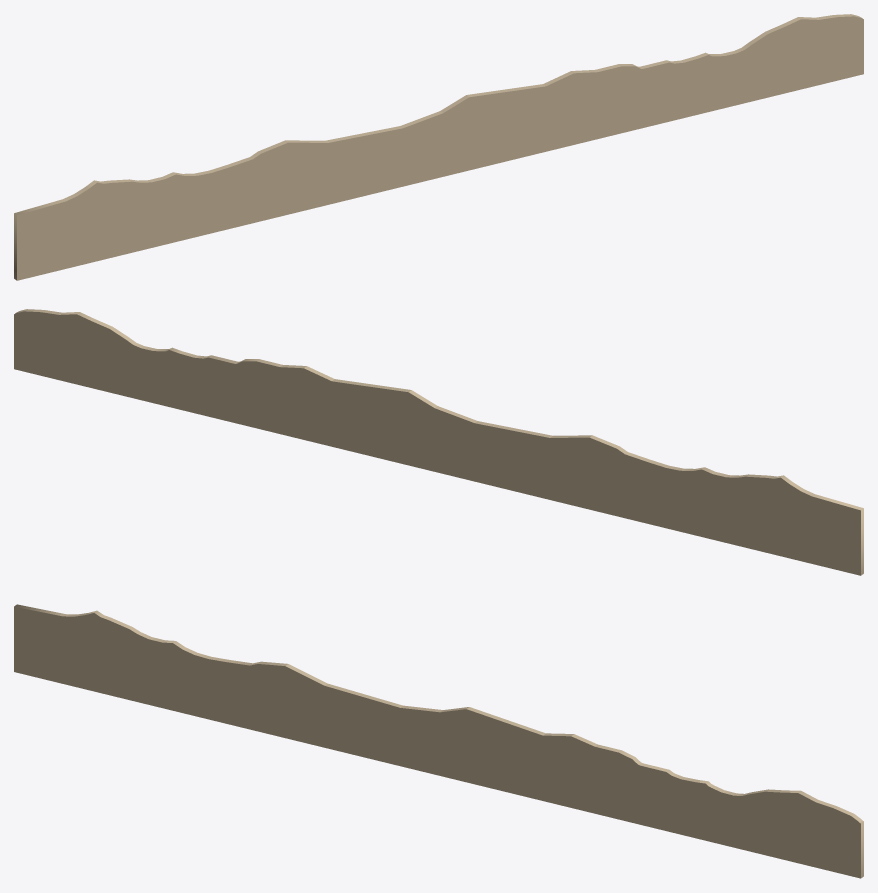
3 renders of one model, top to bottom at view 1: azimuth 30°, elevation 25°; view 2: azimuth 150°, elevation 25°; view 3: azimuth 330°, elevation 25°, orthographic.
Visible parts, largest first — view 1: layer5; view 2: layer5; view 3: layer5.
Boxes of the visible parts, box(x1,y1,x2,y2) form: layer5: box(14, 14, 863, 280); layer5: box(14, 309, 863, 575); layer5: box(14, 604, 863, 878).
Size of the model in its own units: 7.96 by 0.7074 by 0.05.
